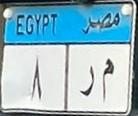8: (26, 55, 46, 102)
meem: (98, 58, 119, 101)
raa: (78, 64, 97, 99)
